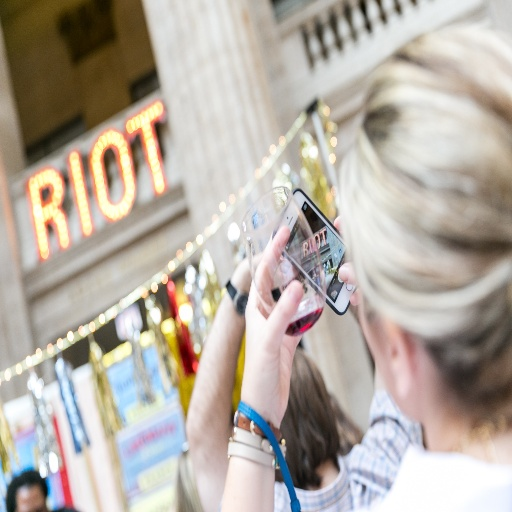hand: (240, 211, 304, 457), (332, 210, 365, 309), (242, 246, 264, 291)
